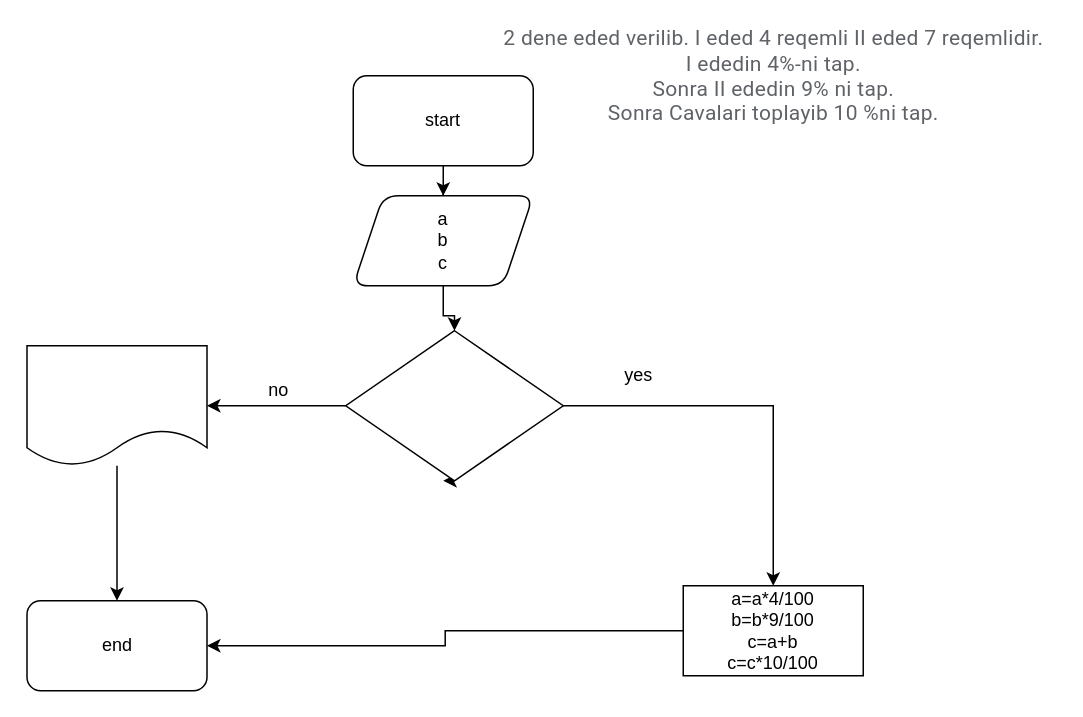
Some shapes in this 1083 by 717 pixel diagram are drawn without their labels. Each missing label, with the centre of its shape:
"a>=1000 a<10000 b>=1000000 b<10000000" goes at point 453,405.
"ededler duzgun verilmeyibdir" goes at point 116,405.
